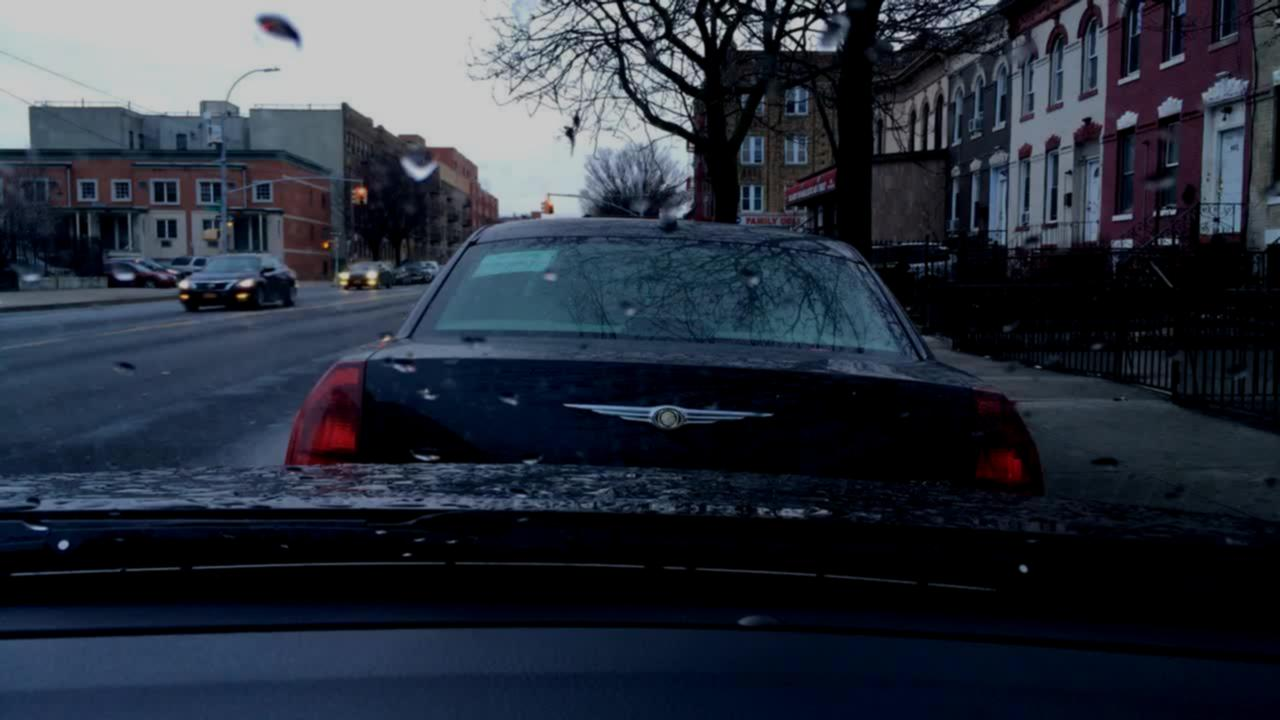Chrysler: (559, 397, 787, 437)
